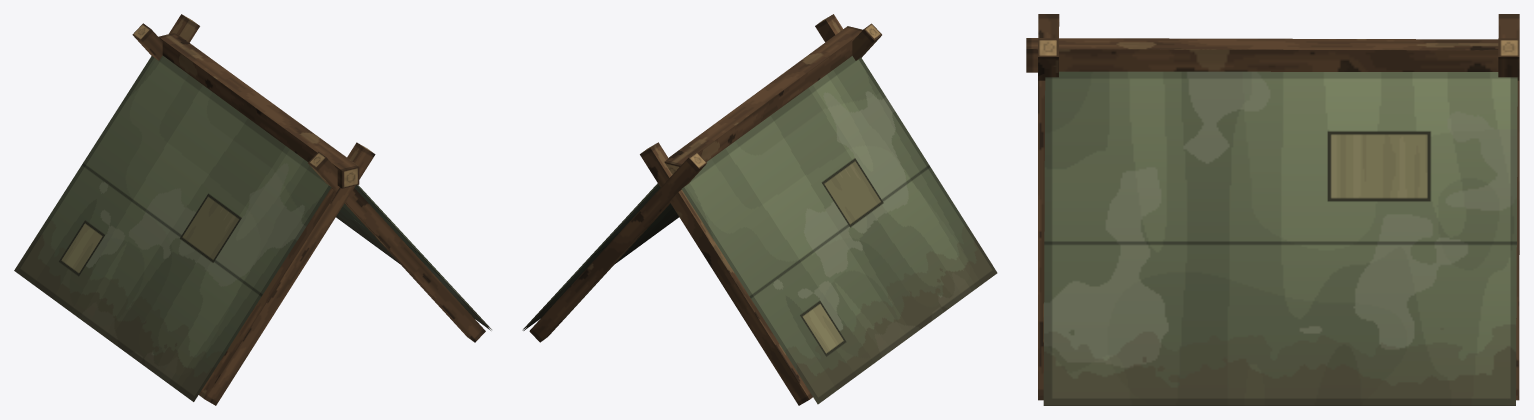
Rendered from SM_Tent.fbx.
3 renders of one model, left to right at view 1: azimuth 30°, elevation 25°; view 2: azimuth 150°, elevation 25°; view 3: azimuth 270°, elevation 25°, orthographic. The views are drawn at different scales.
Visible parts, largest first — view 1: SM_Tent; view 2: SM_Tent; view 3: SM_Tent.
Part boxes in pixels (x1,y1,x2,y2): SM_Tent: [14, 14, 491, 405]; SM_Tent: [522, 14, 997, 405]; SM_Tent: [1026, 14, 1519, 405].
Bounding box in the file's own units: 152 × 108 × 166.
Materials: 1 (1 with a texture image).
